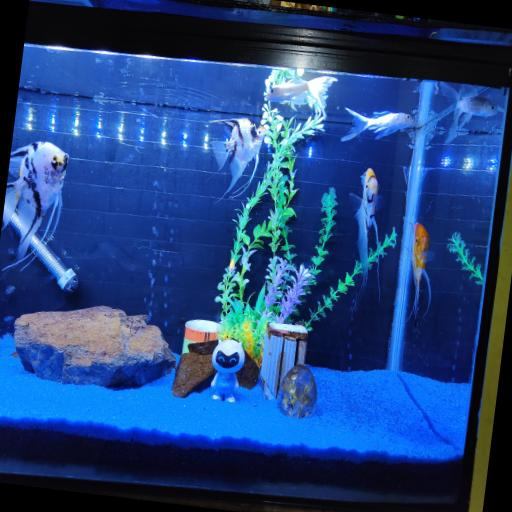Fish: (2, 142, 67, 266), (209, 118, 266, 197), (349, 168, 381, 292), (439, 82, 497, 143), (265, 76, 336, 119), (341, 108, 412, 141), (410, 223, 432, 329)
